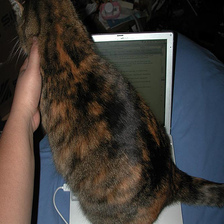laptop: (52, 21, 186, 224)
